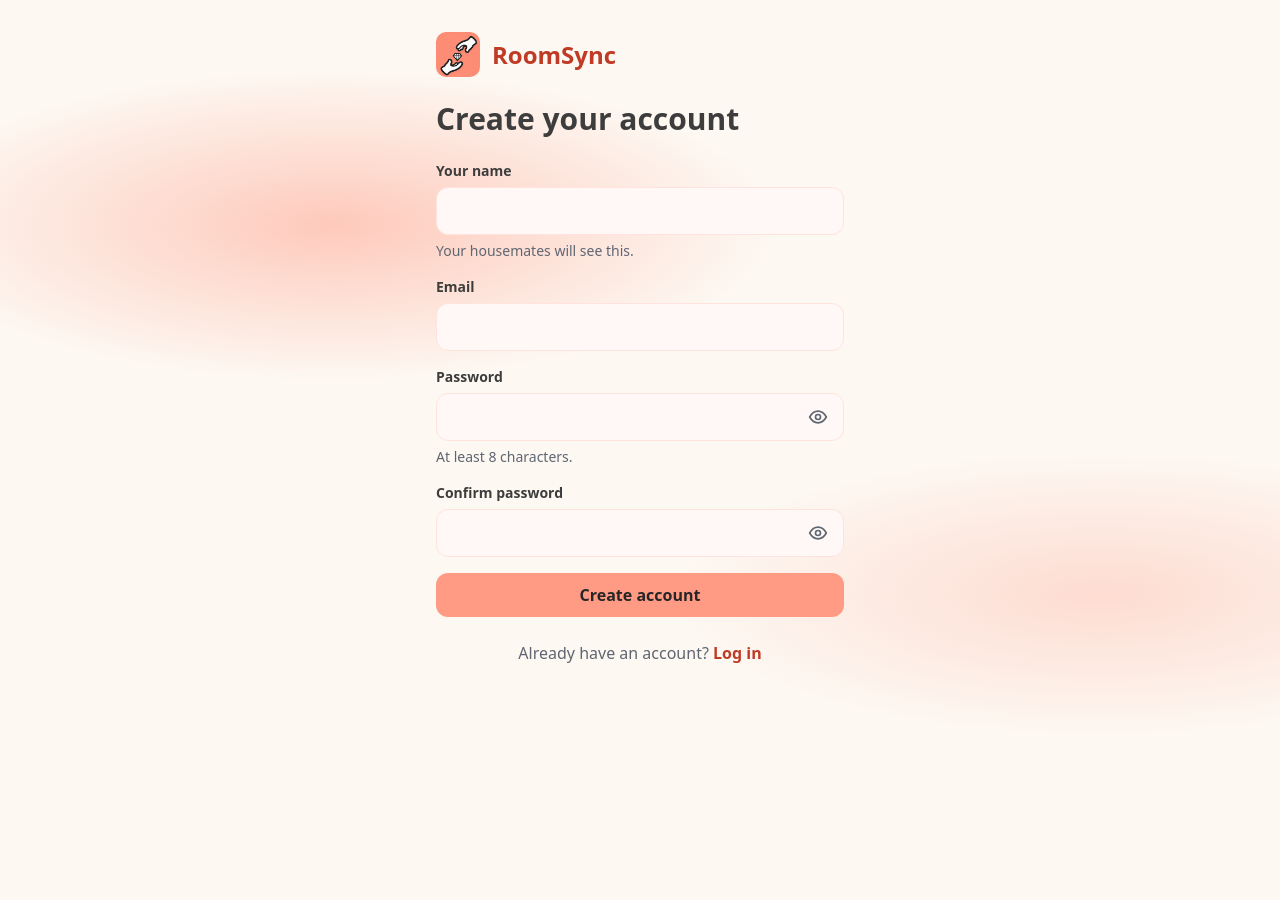
it: SignUpScreen › a failed save keeps everything the user typed and explains why (rule 6)
This screenshot has width=1280, height=900.
Type "Aarav" into the field labelled "Your name" at coordinates (640, 211), box x1=436 y1=187 x2=844 y2=235
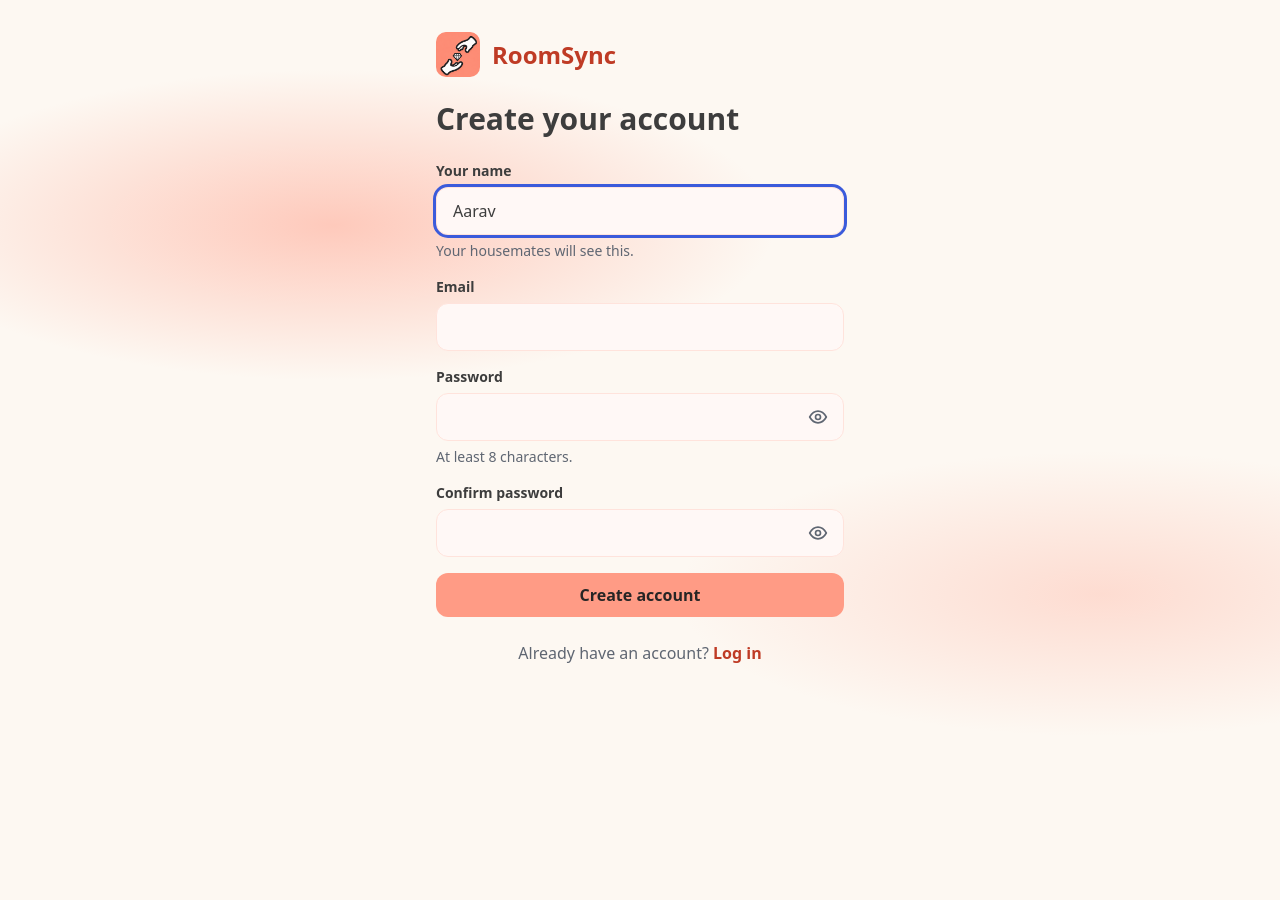
Type "aarav@example.com" into the field labelled "Email" at coordinates (640, 327), box x1=436 y1=303 x2=844 y2=351
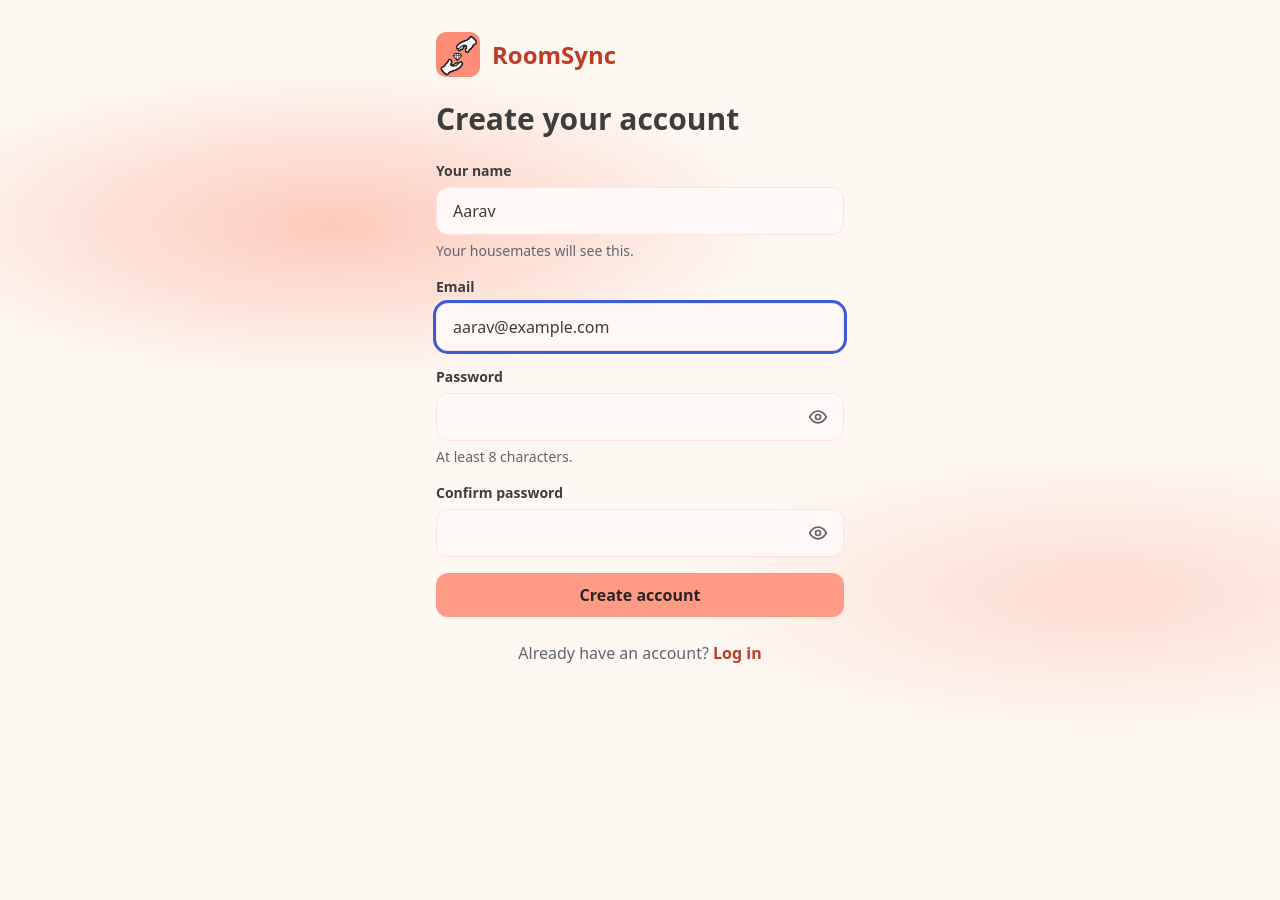
Type "longenough" into the password field labelled "Password" at coordinates (640, 417), box x1=436 y1=393 x2=844 y2=441
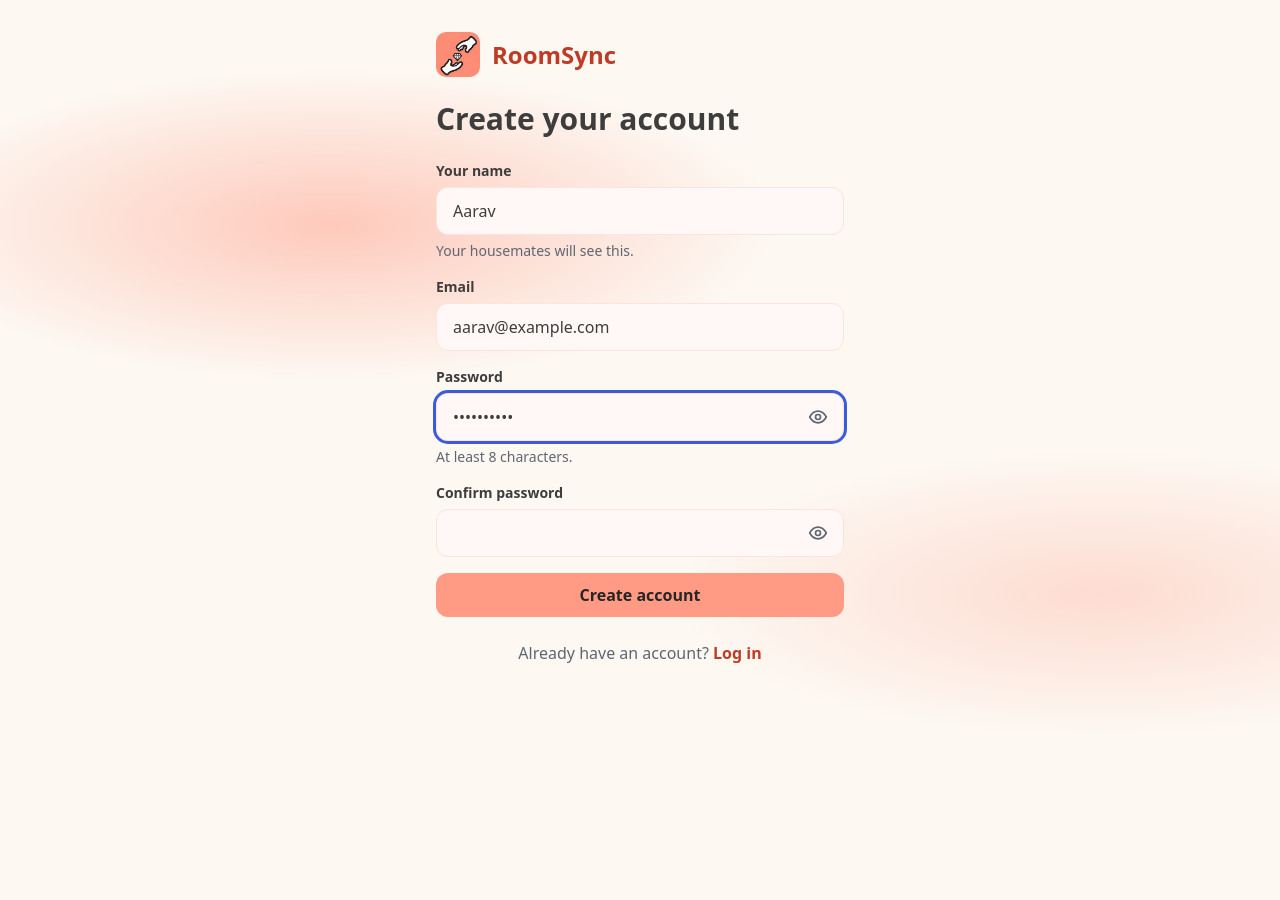
Type "longenough" into the password field labelled "Confirm password" at coordinates (640, 533), box x1=436 y1=509 x2=844 y2=557
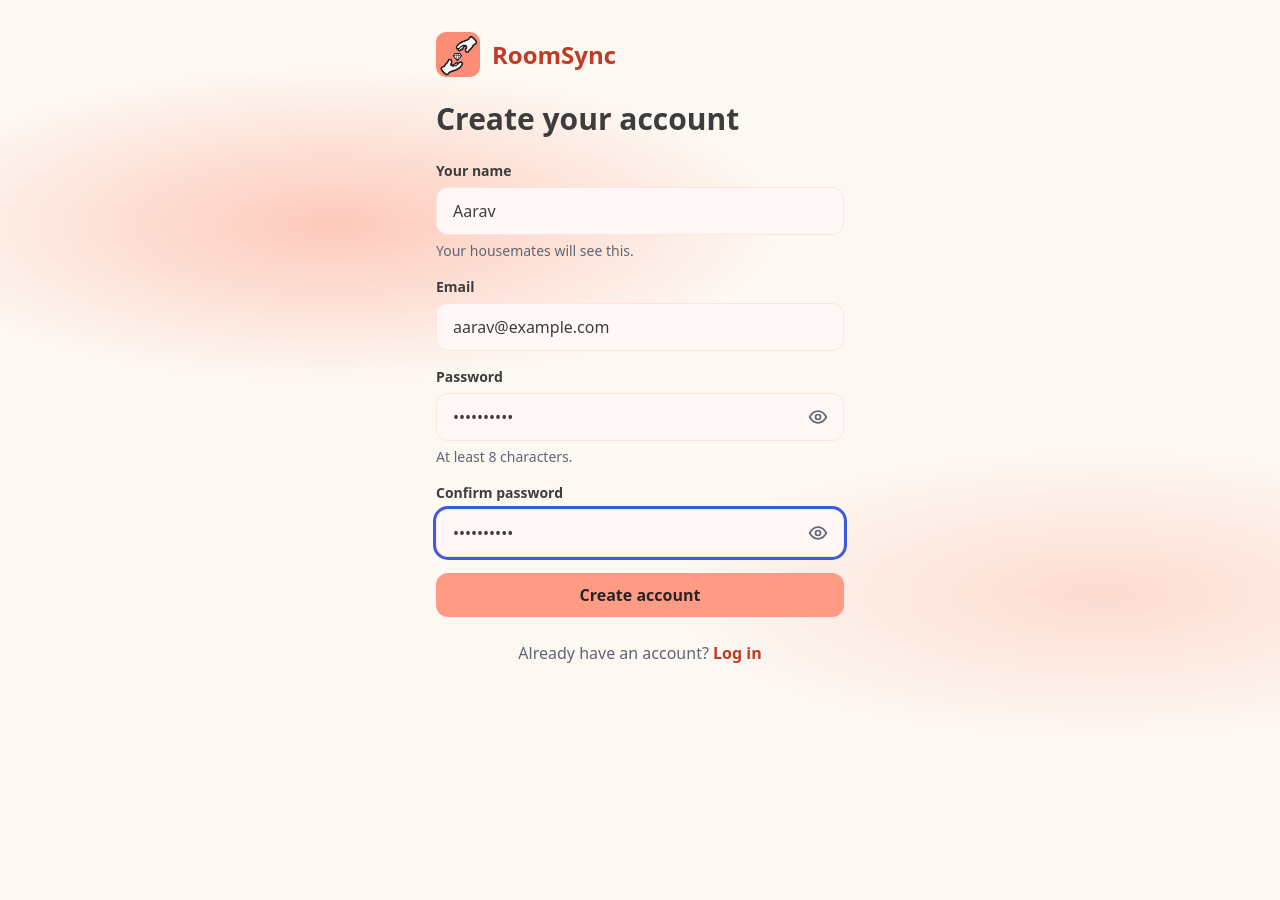
Click the button "Create account" at coordinates (640, 595), box x1=436 y1=573 x2=844 y2=617
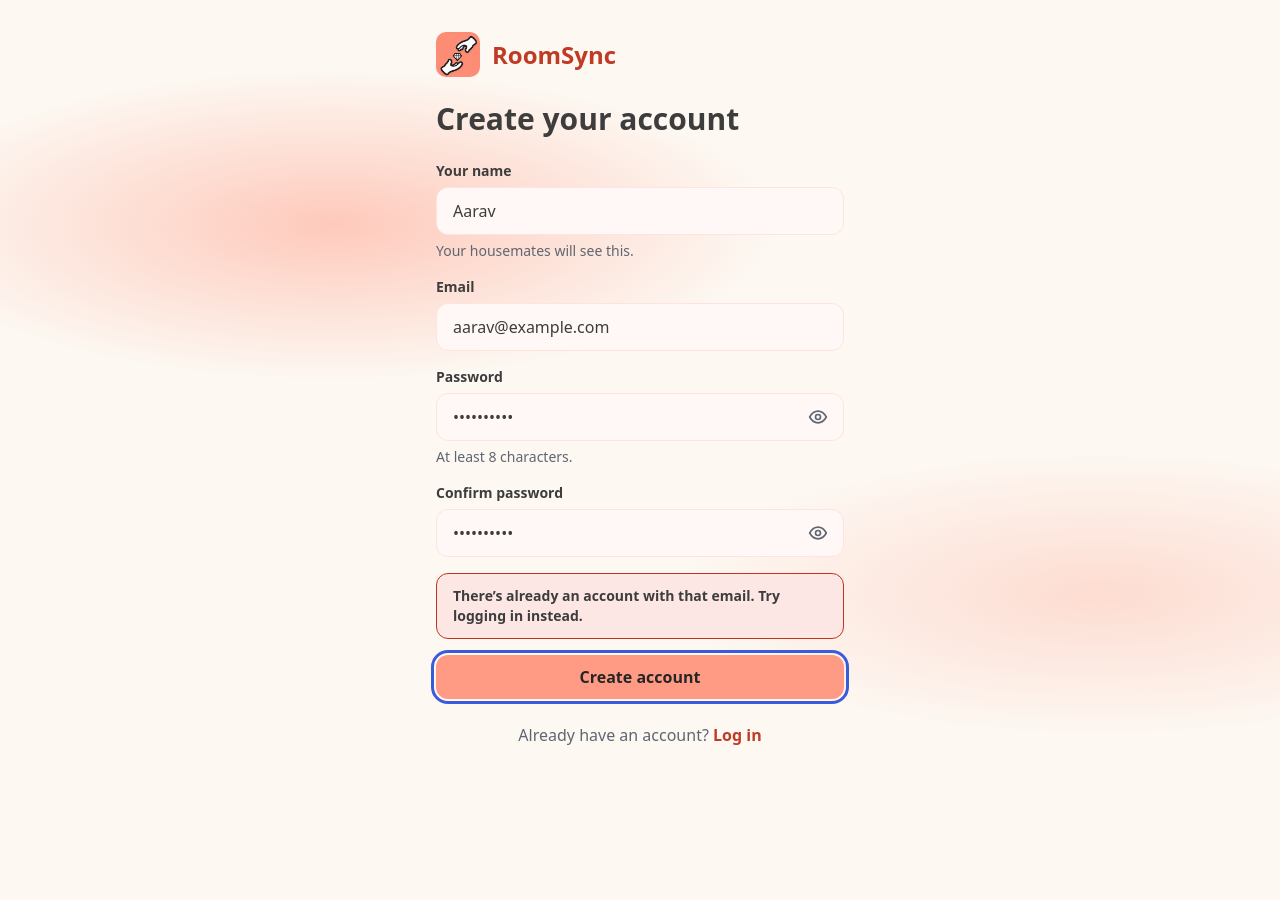
Expected: the message reads "There’s already an account with that email. Try logging in instead.", x1=453 y1=586 x2=780 y2=625
